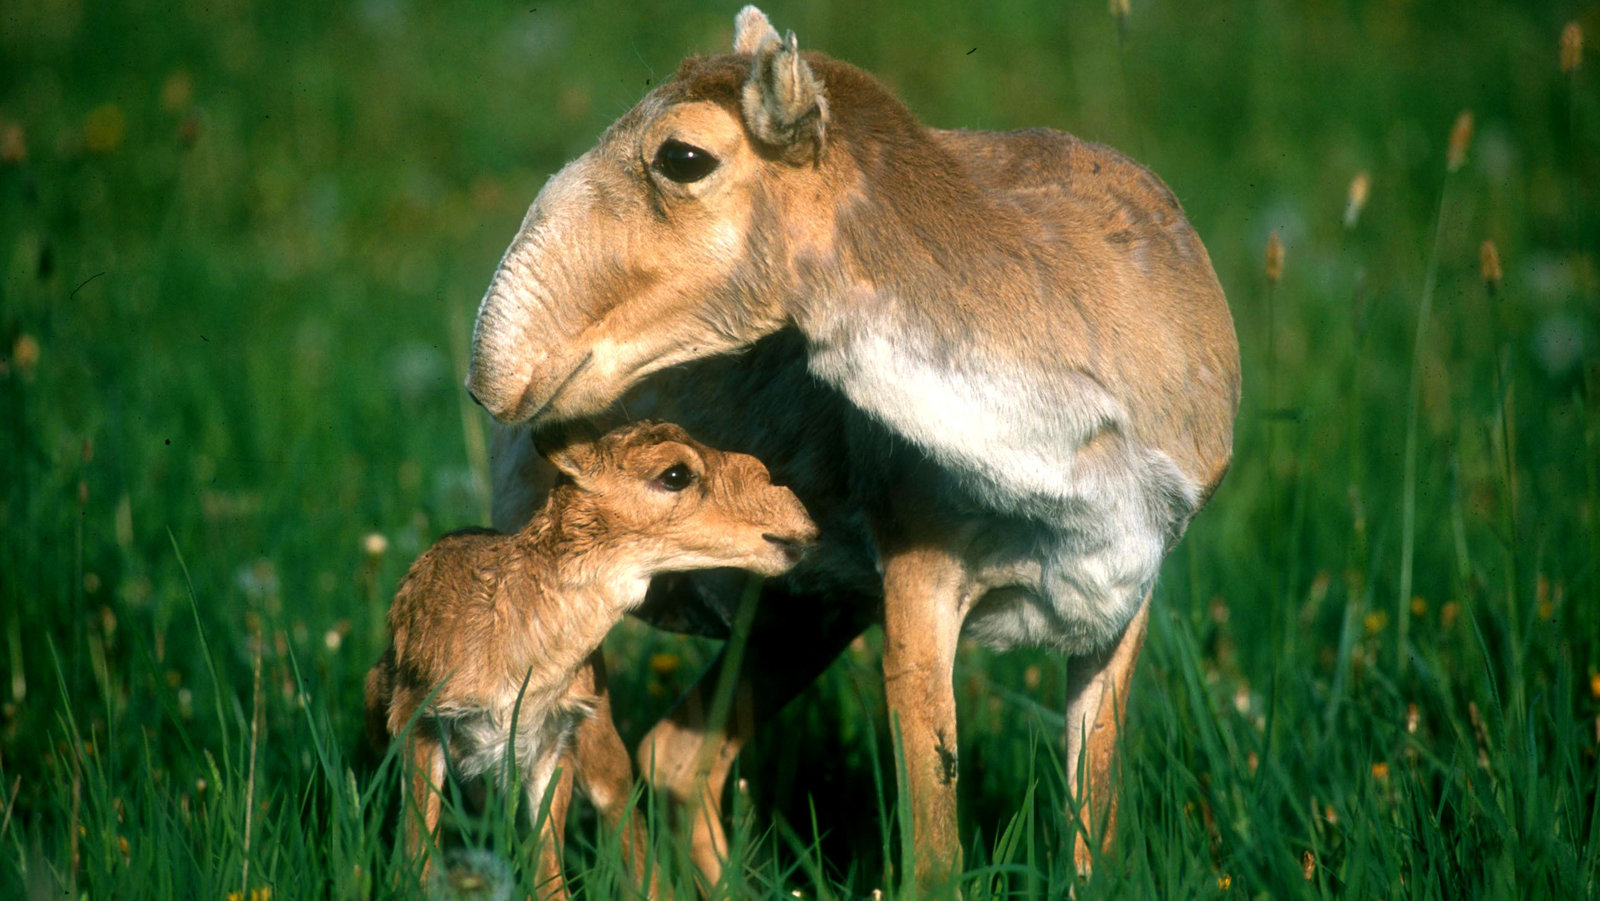saiga: (455, 8, 1242, 891), (377, 403, 807, 893)
